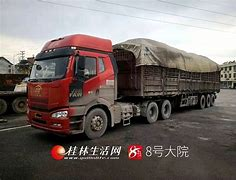bigtruck: (25, 32, 221, 138)
